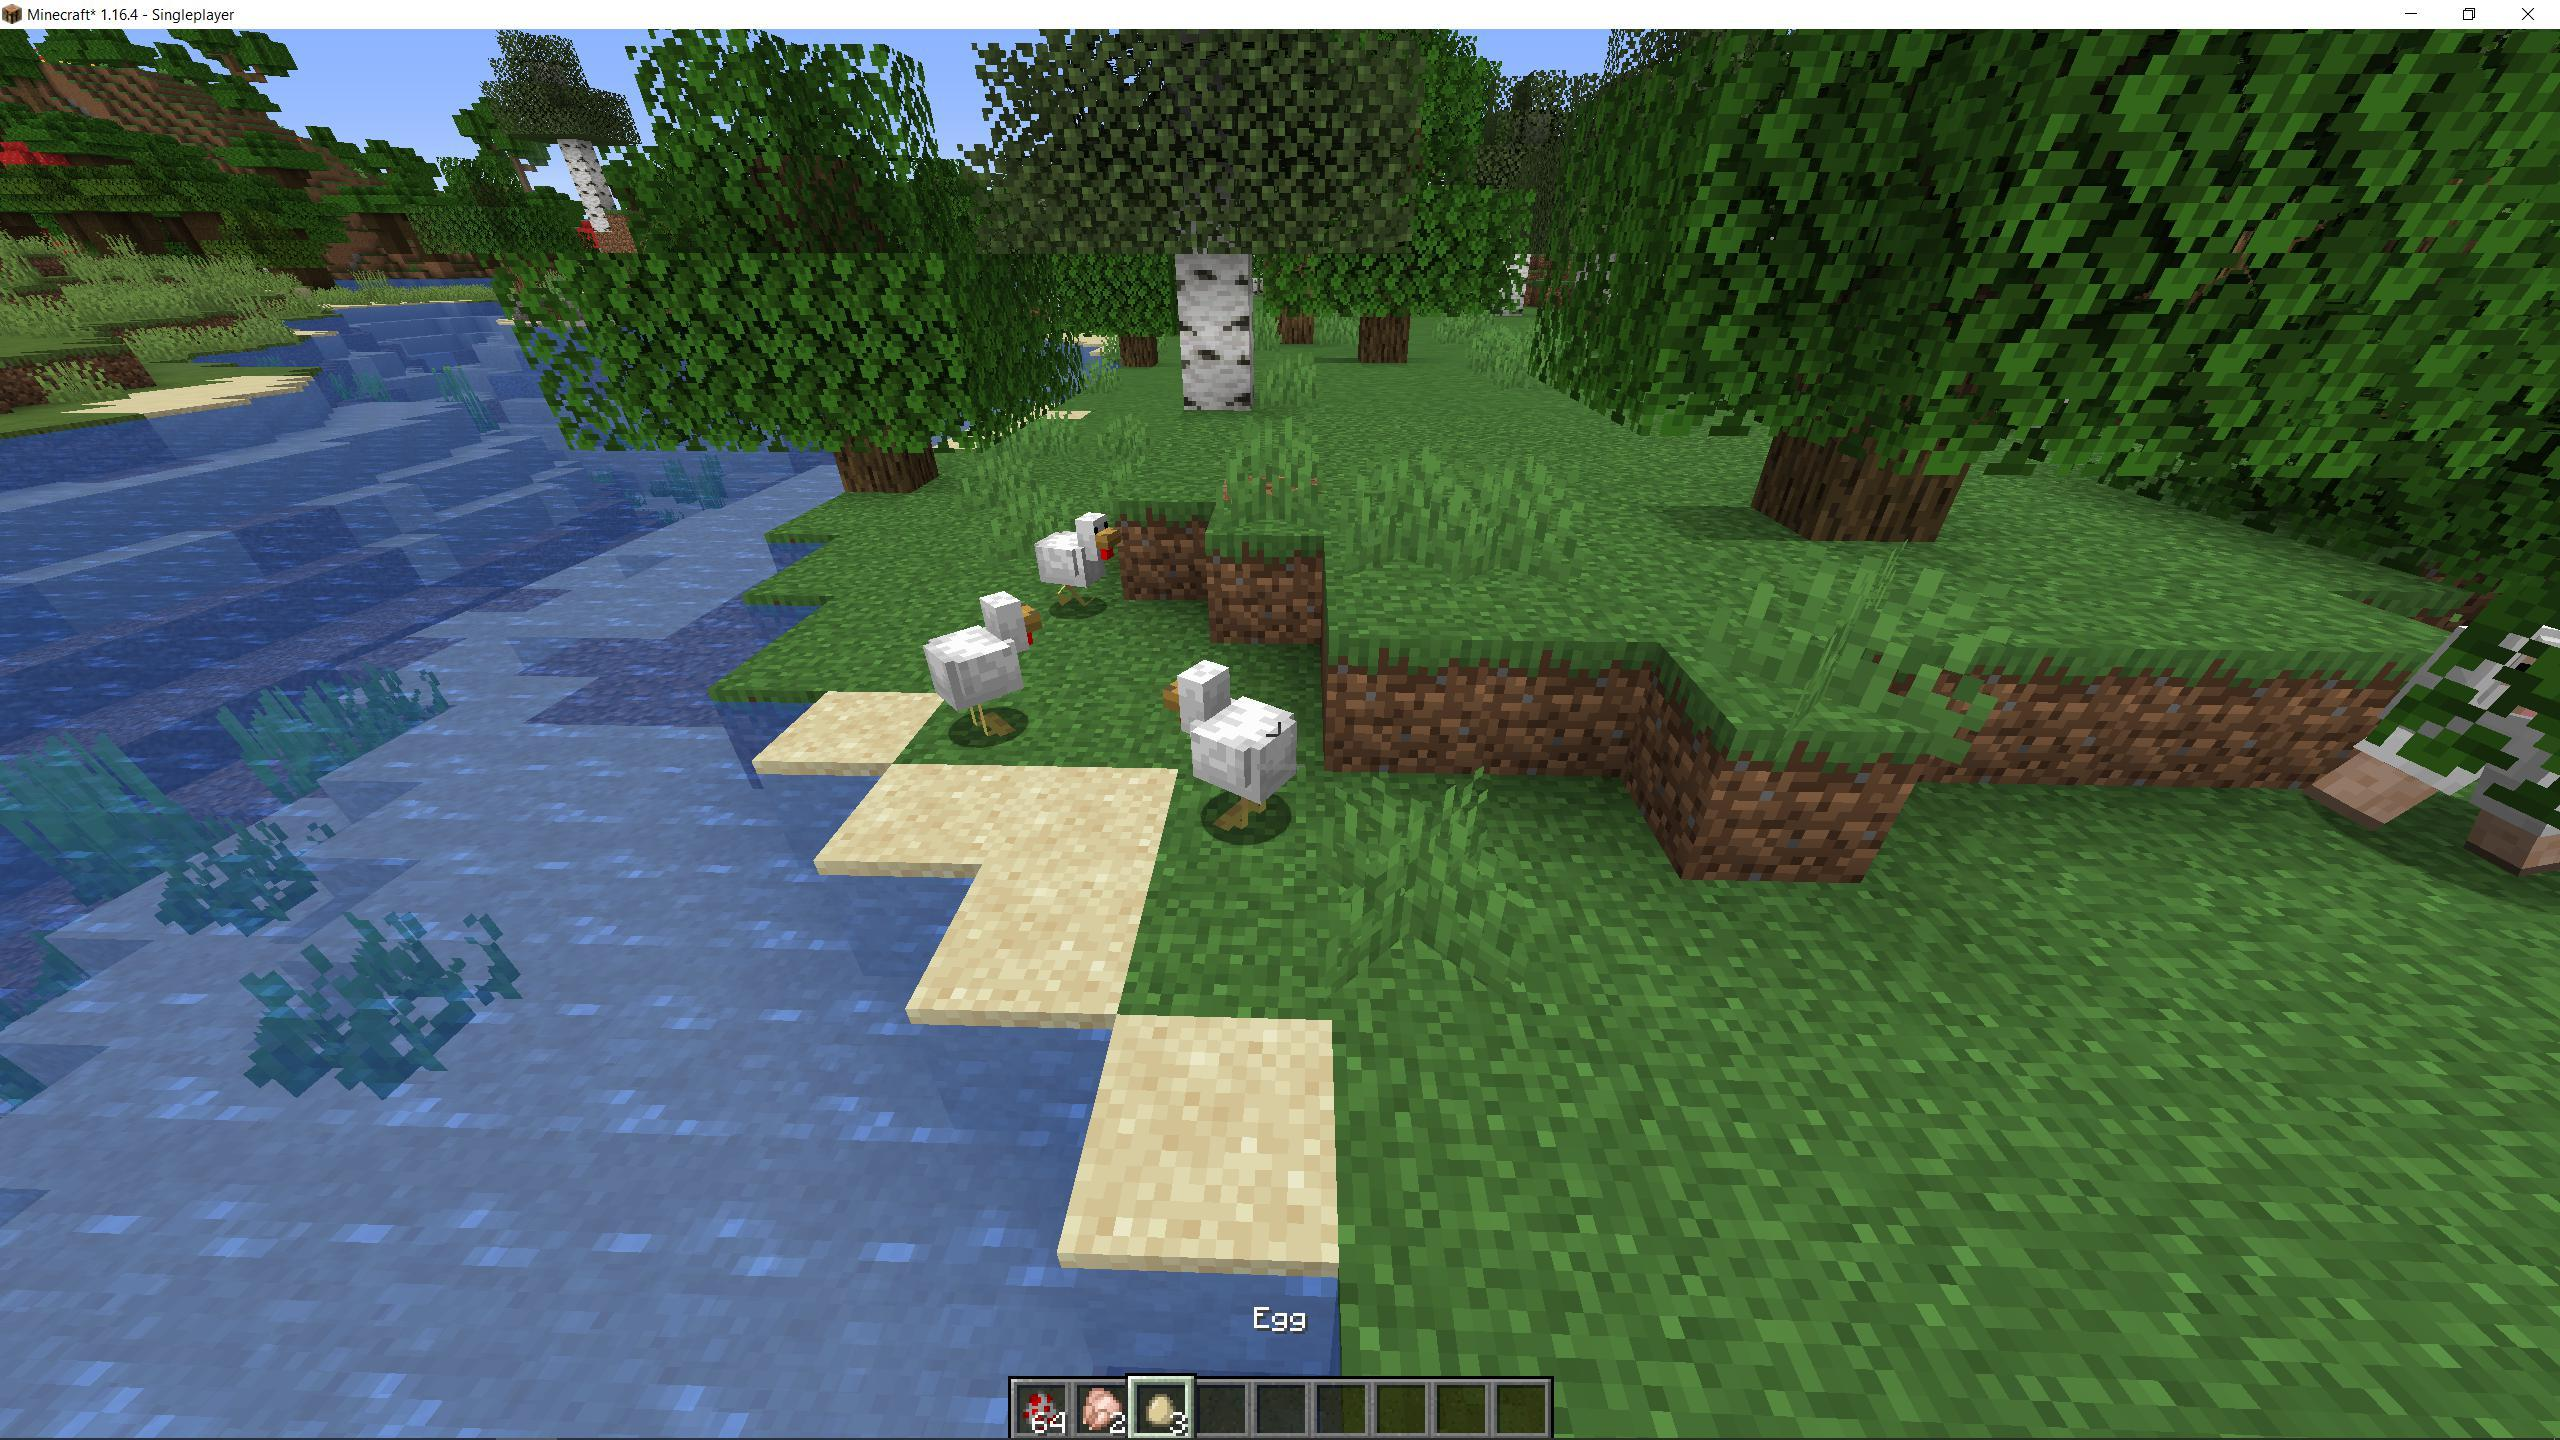chicken: (1157, 659, 1306, 840), (921, 585, 1048, 753), (1034, 508, 1118, 614)
